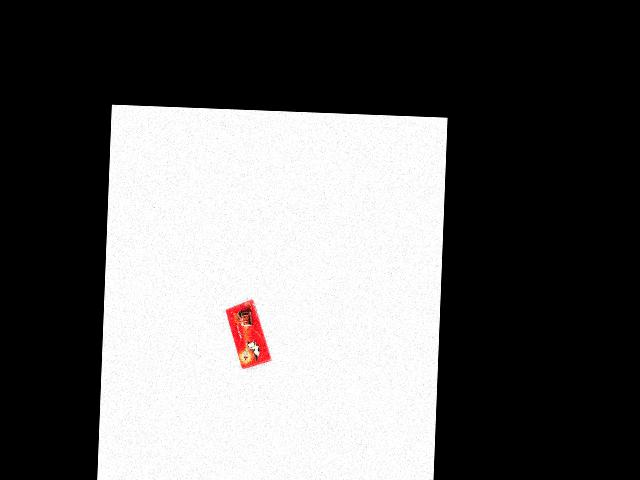chocolate: (222, 297, 273, 368)
